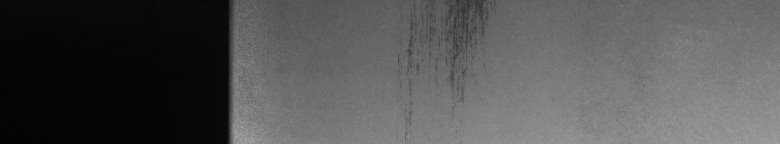ka: (397, 4, 496, 125)
